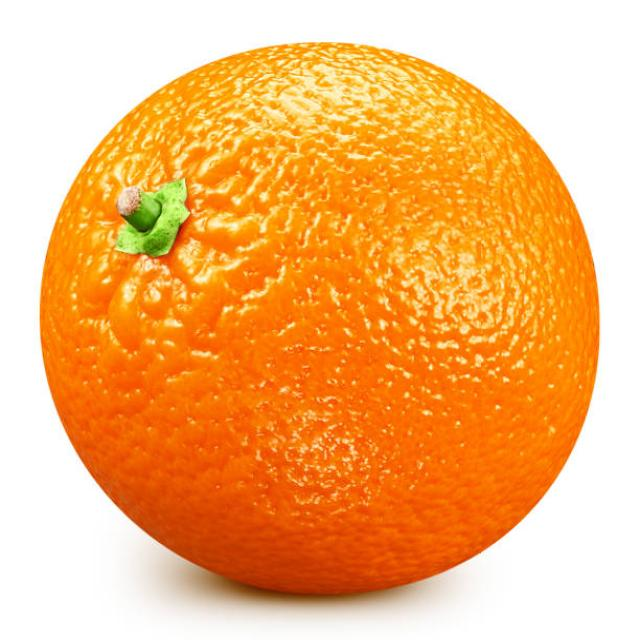Ripe: (36, 33, 606, 600)
